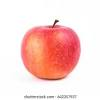apple: (19, 19, 82, 81)
